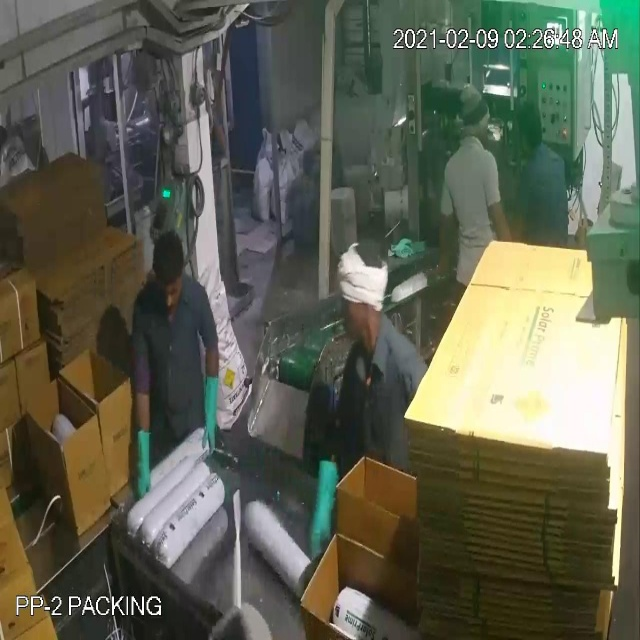Guantes: (309, 439, 345, 572), (127, 413, 162, 518), (196, 359, 227, 470)
Sin_guantes: (434, 205, 455, 282)
